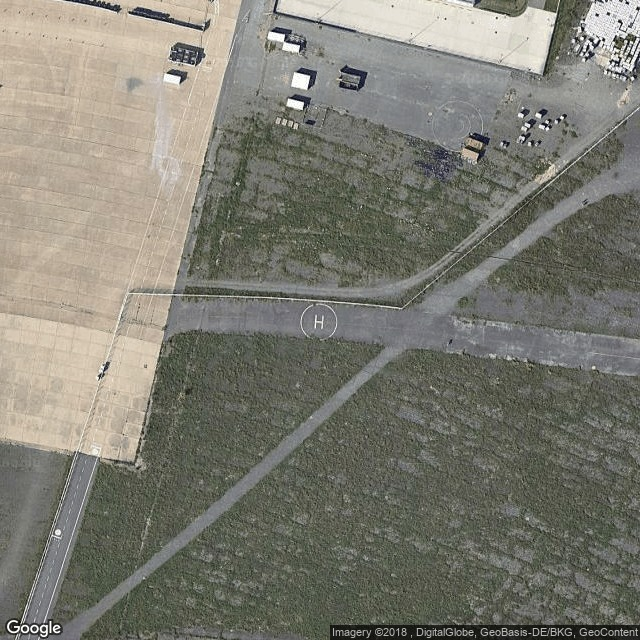heliport: (311, 311, 326, 330)
